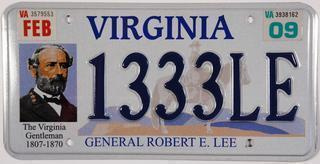placa de veiculo: (5, 0, 317, 159)
